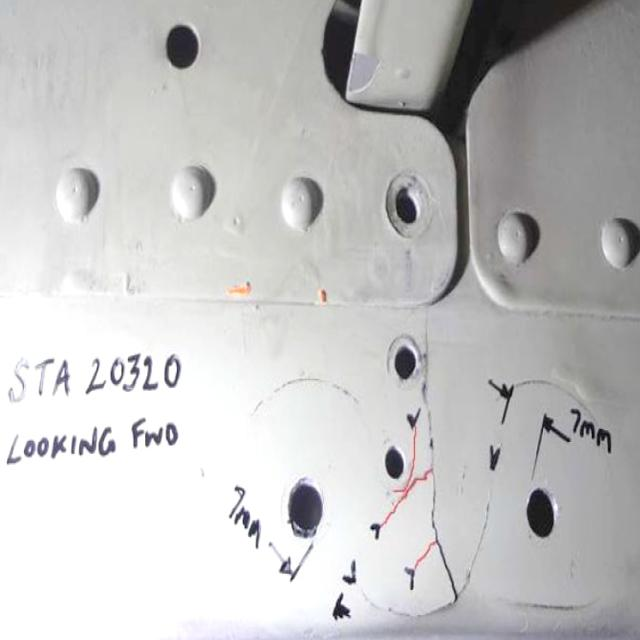Rupture: (375, 299, 462, 613), (353, 485, 496, 629)
